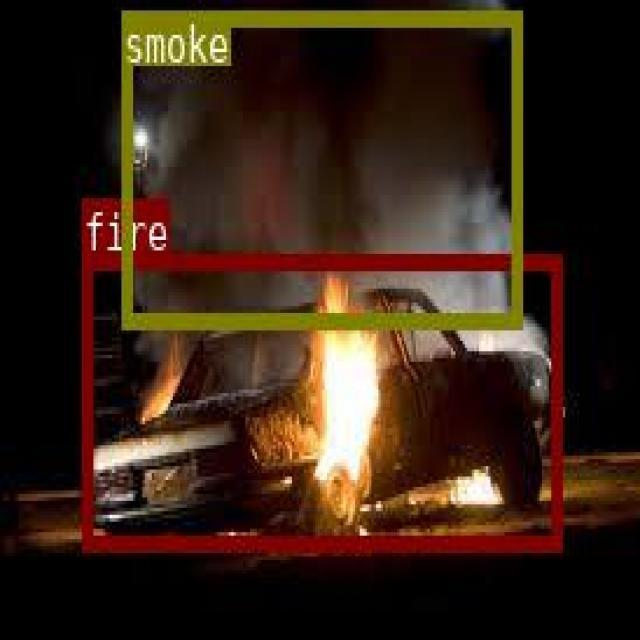fire: (82, 254, 559, 547)
smoke: (121, 10, 520, 325)
